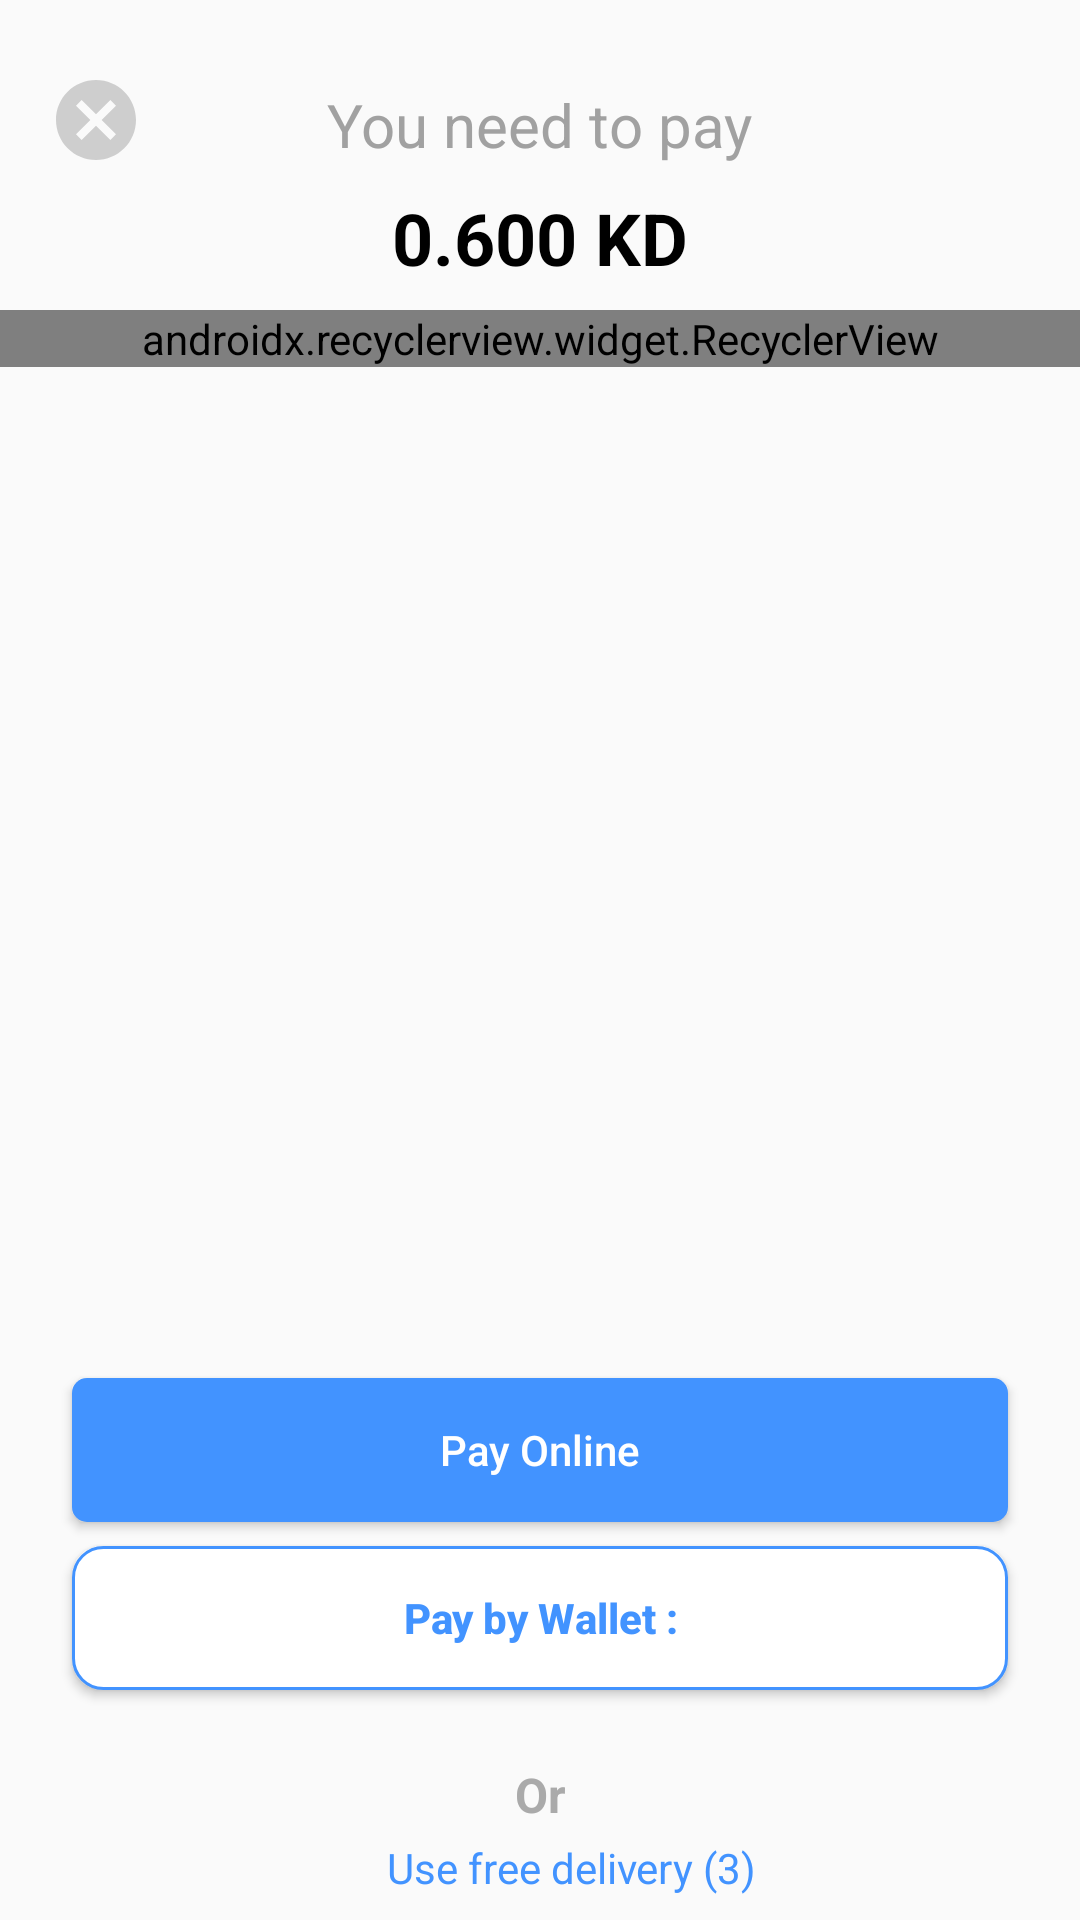

Screen size 1080 × 1920. Icon name, then its box in pixels as (left=x1, top=y1, right=x2, bottom=y2):
close: (left=56, top=80, right=136, bottom=160)
